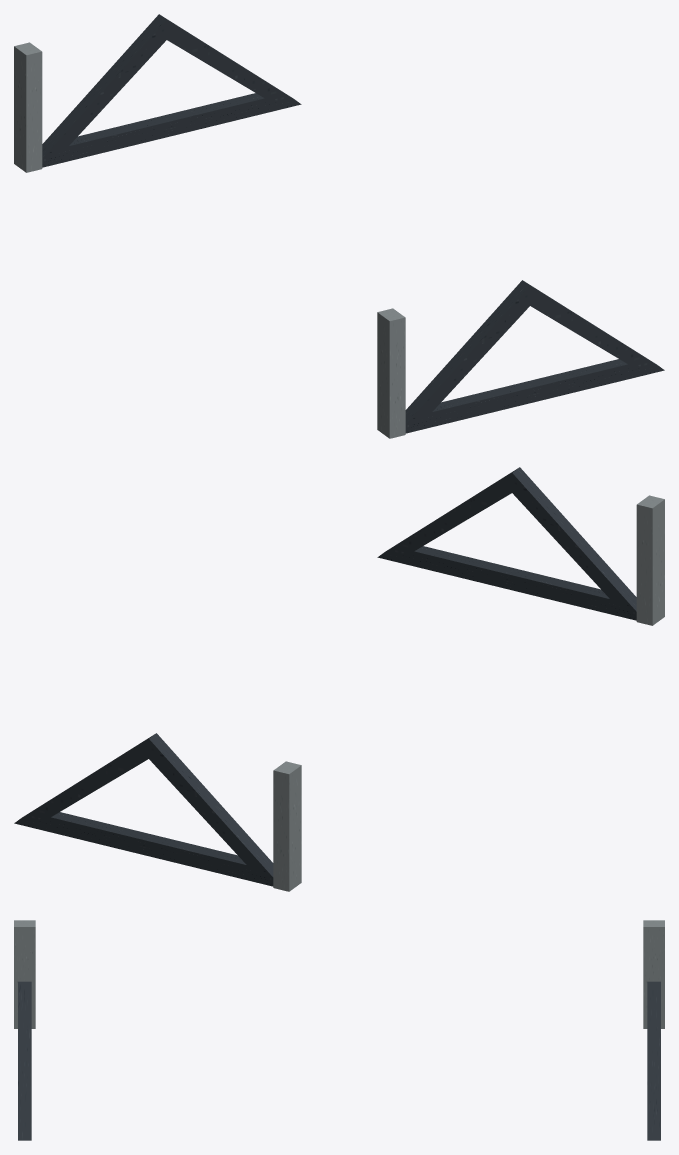
Rendered from WingTruss6m.fbx.
3 renders of one model, top to bottom at view 1: azimuth 30°, elevation 25°; view 2: azimuth 150°, elevation 25°; view 3: azimuth 270°, elevation 25°, orthographic. The views are drawn at different scales.
Parts seen in each view (by area): view 1: WingTruss6m; view 2: WingTruss6m; view 3: WingTruss6m.
Boxes of the visible parts, box(x1,y1,x2,y2) form: WingTruss6m: box(14, 14, 664, 438); WingTruss6m: box(14, 467, 664, 891); WingTruss6m: box(14, 920, 664, 1140).
Size of the model in its own units: 618 by 252 by 1448.
